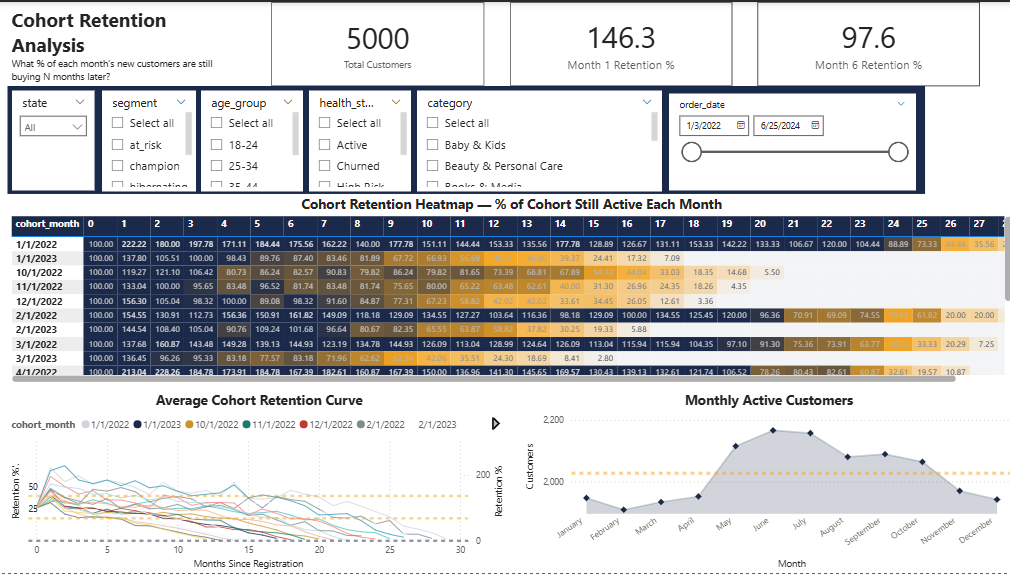

The page's visual inventory and layout, read from the dashboard file:
{"tool":"powerbi","page":{"name":"Cohort Retention Analysis","canvas":[1280,720],"ordinal":2},"visuals":[{"type":"textbox","box":[10,0,300,106],"z":0},{"type":"card","fields":{"Values":["churn_predictions.Total Customers"]},"box":[342,0,268,106],"z":1000},{"type":"card","fields":{"Values":["churn_predictions.Month 1 Retention %"]},"box":[642,0,280,106],"z":2000},{"type":"card","fields":{"Values":["churn_predictions.Month 6 Retention %"]},"box":[954,0,280,106],"z":3000},{"type":"pivotTable","title":"Cohort Retention Heatmap — % of Cohort Still Active Each Month","fields":{"Rows":["cohort_data.cohort_month.Variation.Date Hierarchy.Month"],"Columns":["cohort_data.period_number"],"Values":["churn_predictions.Retention %"]},"box":[10,242,1270,242],"z":4000},{"type":"lineChart","title":"Average Cohort Retention Curve","fields":{"Category":["cohort_data.period_number"],"Series":["cohort_data.cohort_month"],"Y2":["churn_predictions.Retention %"]},"box":[10,490,634,230],"z":5000},{"type":"areaChart","title":"Monthly Active Customers","fields":{"Category":["orders.order_date.Variation.Date Hierarchy.Month","orders.order_date.Variation.Date Hierarchy.Day"],"Y":["Count(orders.customer_id)"]},"box":[658,490,622,230],"z":6000},{"type":"shape","box":[10,106,1156,136],"z":7000},{"type":"slicer","fields":{"Values":["customers.state"]},"box":[16,112,104,126],"z":8000},{"type":"slicer","fields":{"Values":["customers.segment"]},"box":[128,112,118,126],"z":9000},{"type":"slicer","fields":{"Values":["customers.age_group"]},"box":[254,112,128,126],"z":10000},{"type":"slicer","fields":{"Values":["churn_predictions.health_status"]},"box":[390,112,128,126],"z":11000},{"type":"slicer","fields":{"Values":["orders.order_date"]},"box":[842,116,310,122],"z":12000},{"type":"slicer","fields":{"Values":["orders.category"]},"box":[526,112,308,126],"z":13000}]}

Visuals, with their boxes in screenshot pixels (x1, y1, x2, y2), scaled from the page's 1280x720 canvas onto the 1010x574 screenshot:
textbox: [8,0,245,85]
card - churn_predictions.Total Customers: [270,0,481,85]
card - churn_predictions.Month 1 Retention %: [507,0,728,85]
card - churn_predictions.Month 6 Retention %: [753,0,974,85]
"Cohort Retention Heatmap — % of Cohort Still Active Each Month" pivotTable: [8,193,1009,386]
"Average Cohort Retention Curve" lineChart: [8,391,508,573]
"Monthly Active Customers" areaChart: [519,391,1009,573]
shape: [8,85,920,193]
slicer - customers.state: [13,89,95,190]
slicer - customers.segment: [101,89,194,190]
slicer - customers.age_group: [200,89,301,190]
slicer - churn_predictions.health_status: [308,89,409,190]
slicer - orders.order_date: [664,92,909,190]
slicer - orders.category: [415,89,658,190]
